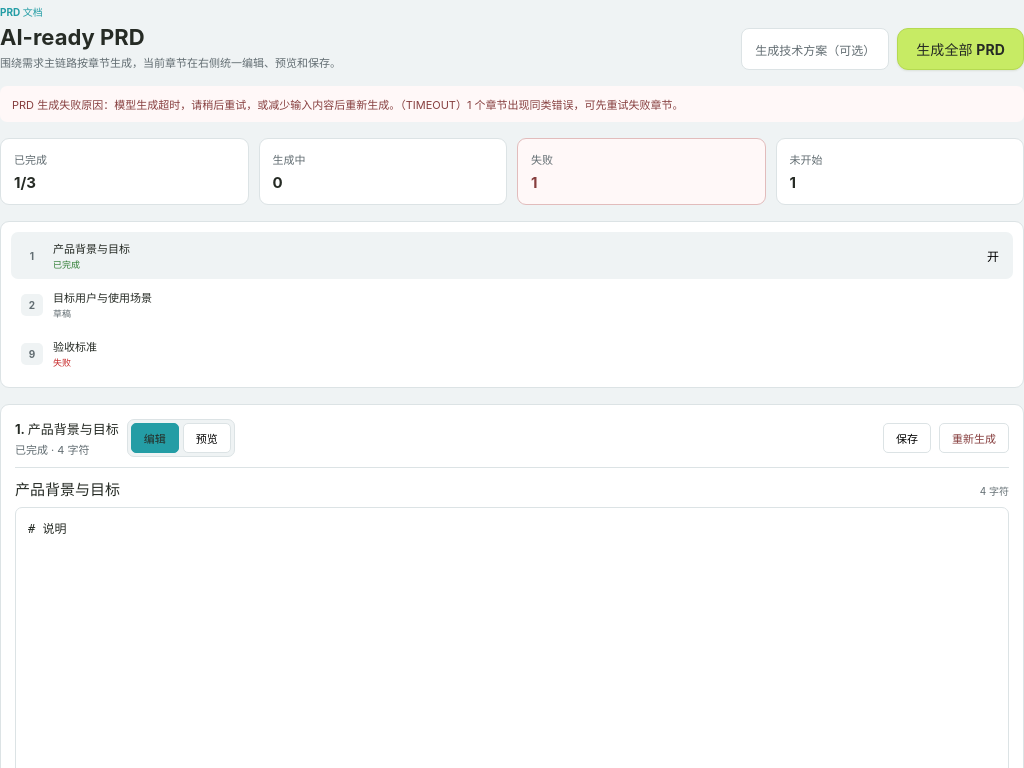
Test: PrdView › does not request PRD generation when model settings are incomplete
Click the button with test id "generate-all-btn" at (961, 49), box left=897, top=28, right=1023, bottom=70
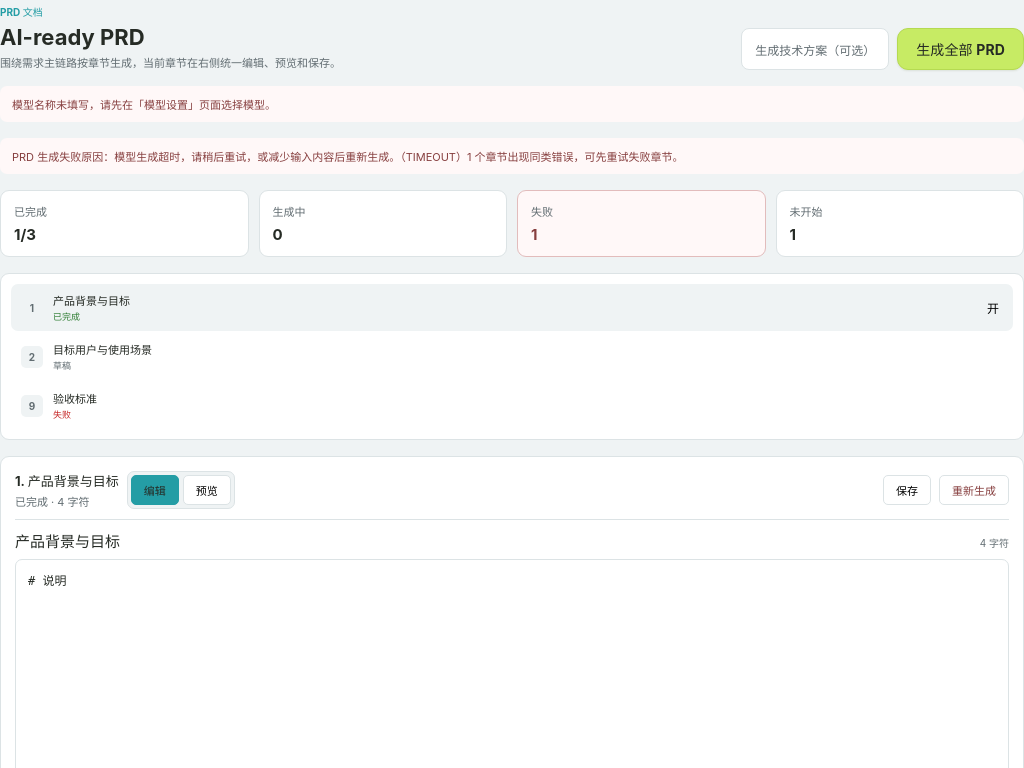
Now the message with test id "prd-error" shows "模型名称未填写", box left=12, top=98, right=276, bottom=112
